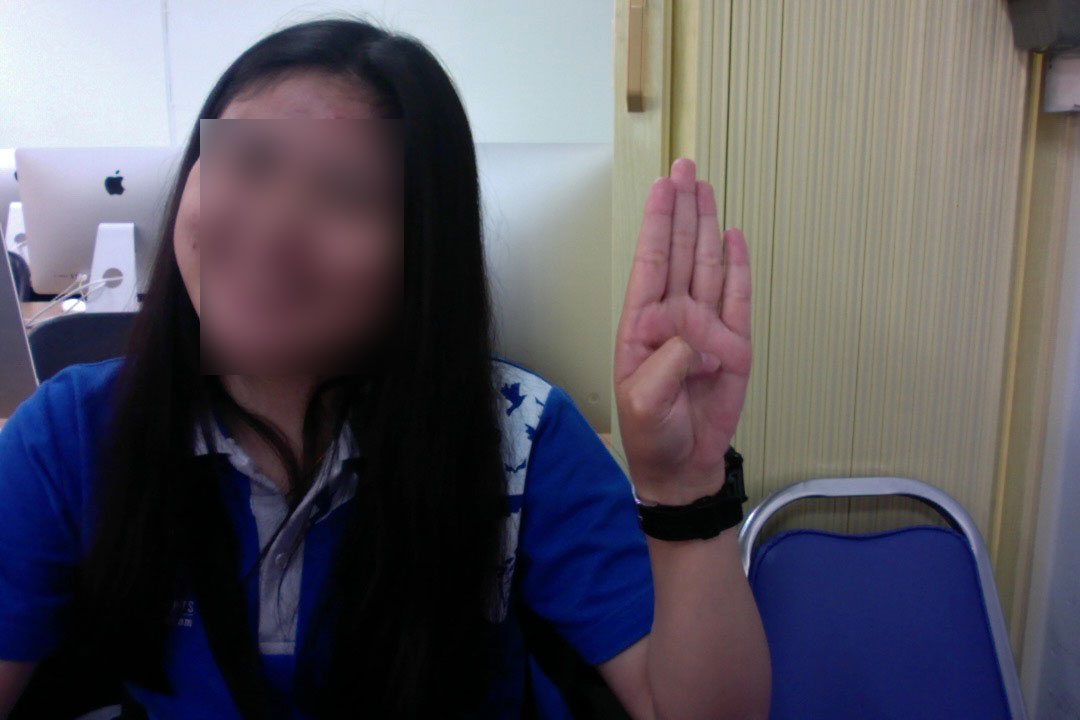bor: (604, 153, 763, 496)
